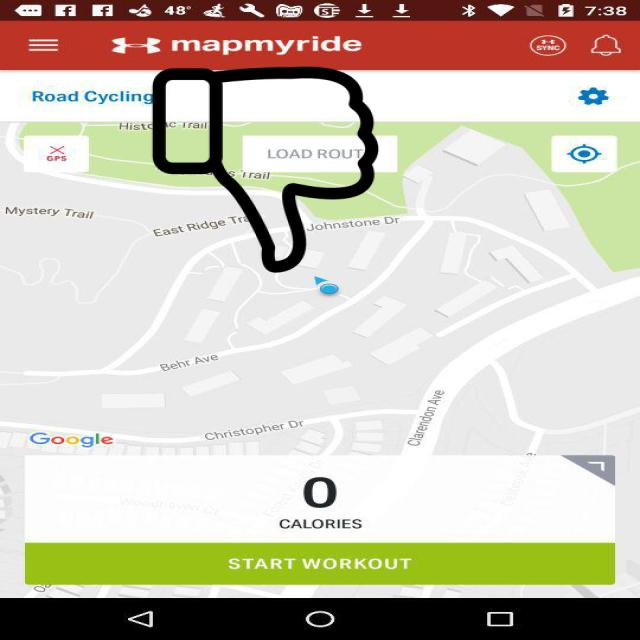obstruction: (149, 66, 382, 272)
